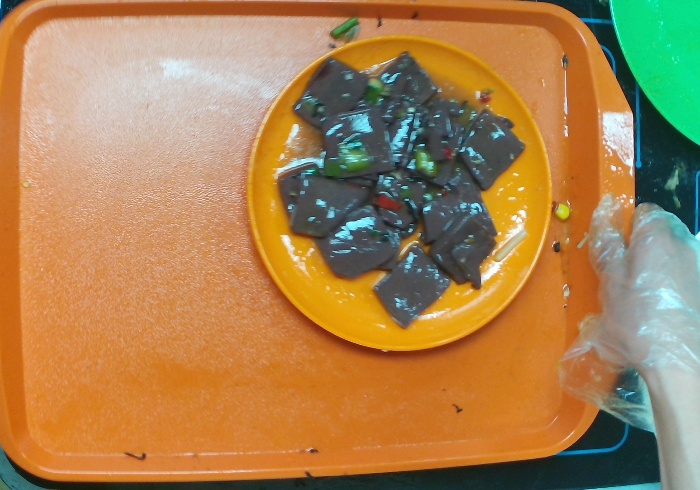HZYJPL-Ju_Huang_Yuan_Pan: (244, 33, 554, 353)
